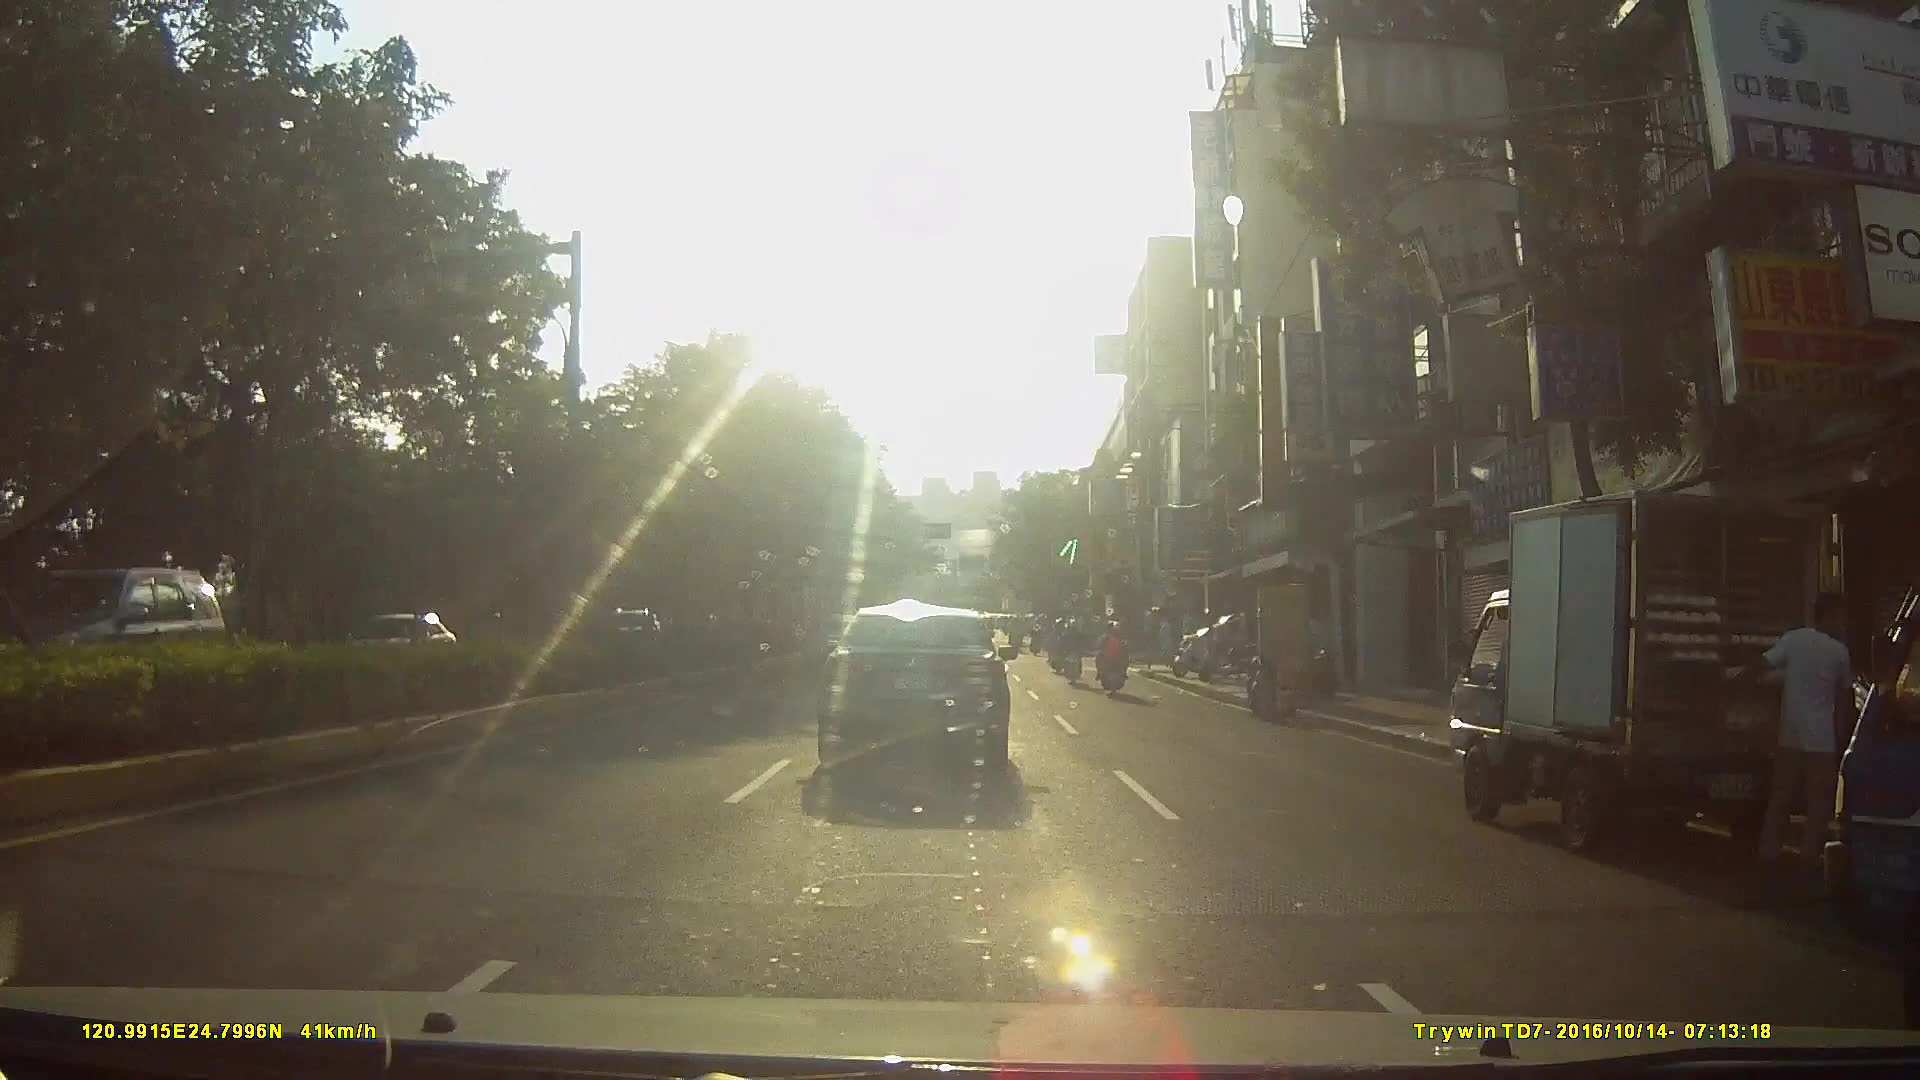pedestrian: (1750, 579, 1854, 873)
rider: (1094, 617, 1131, 697), (1059, 612, 1085, 687), (1049, 607, 1069, 666)
vehicle: (1443, 473, 1850, 850), (810, 593, 1022, 784), (17, 565, 216, 700)
